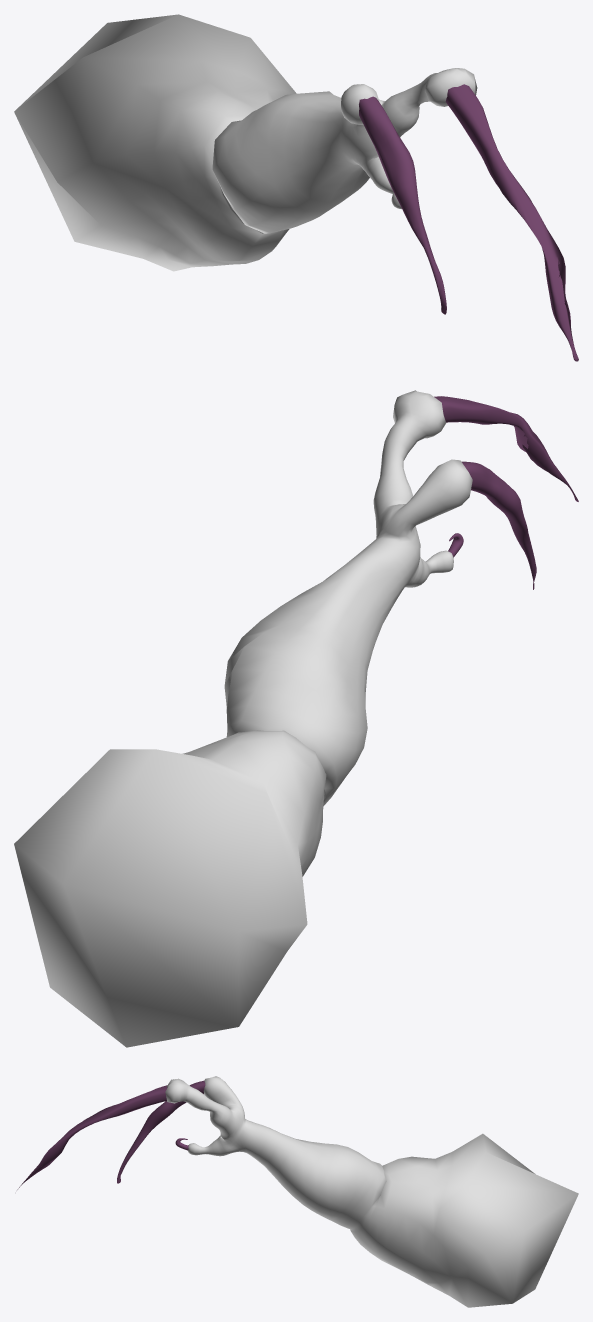
The model's file is claw-right.fbx.
The picture shows the model from 3 angles, top to bottom: view 1: azimuth 30°, elevation 25°; view 2: azimuth 150°, elevation 25°; view 3: azimuth 270°, elevation 25°; orthographic projection. The views are drawn at different scales.
Parts seen in each view (by area): view 1: kaedim_mesh_0, kaedim_mesh_2, kaedim_mesh_3; view 2: kaedim_mesh_0, kaedim_mesh_2, kaedim_mesh_3; view 3: kaedim_mesh_0, kaedim_mesh_2, kaedim_mesh_3.
Part boxes in pixels (box(x1,y1,x2,y2)): kaedim_mesh_0: box(14, 14, 477, 271); kaedim_mesh_2: box(445, 84, 578, 361); kaedim_mesh_3: box(359, 96, 446, 314); kaedim_mesh_0: box(14, 390, 472, 1047); kaedim_mesh_2: box(434, 396, 578, 501); kaedim_mesh_3: box(462, 461, 536, 589); kaedim_mesh_0: box(165, 1076, 578, 1307); kaedim_mesh_2: box(17, 1085, 167, 1189); kaedim_mesh_3: box(117, 1080, 205, 1183).
Size of the model in its own units: 114 by 175 by 397.
